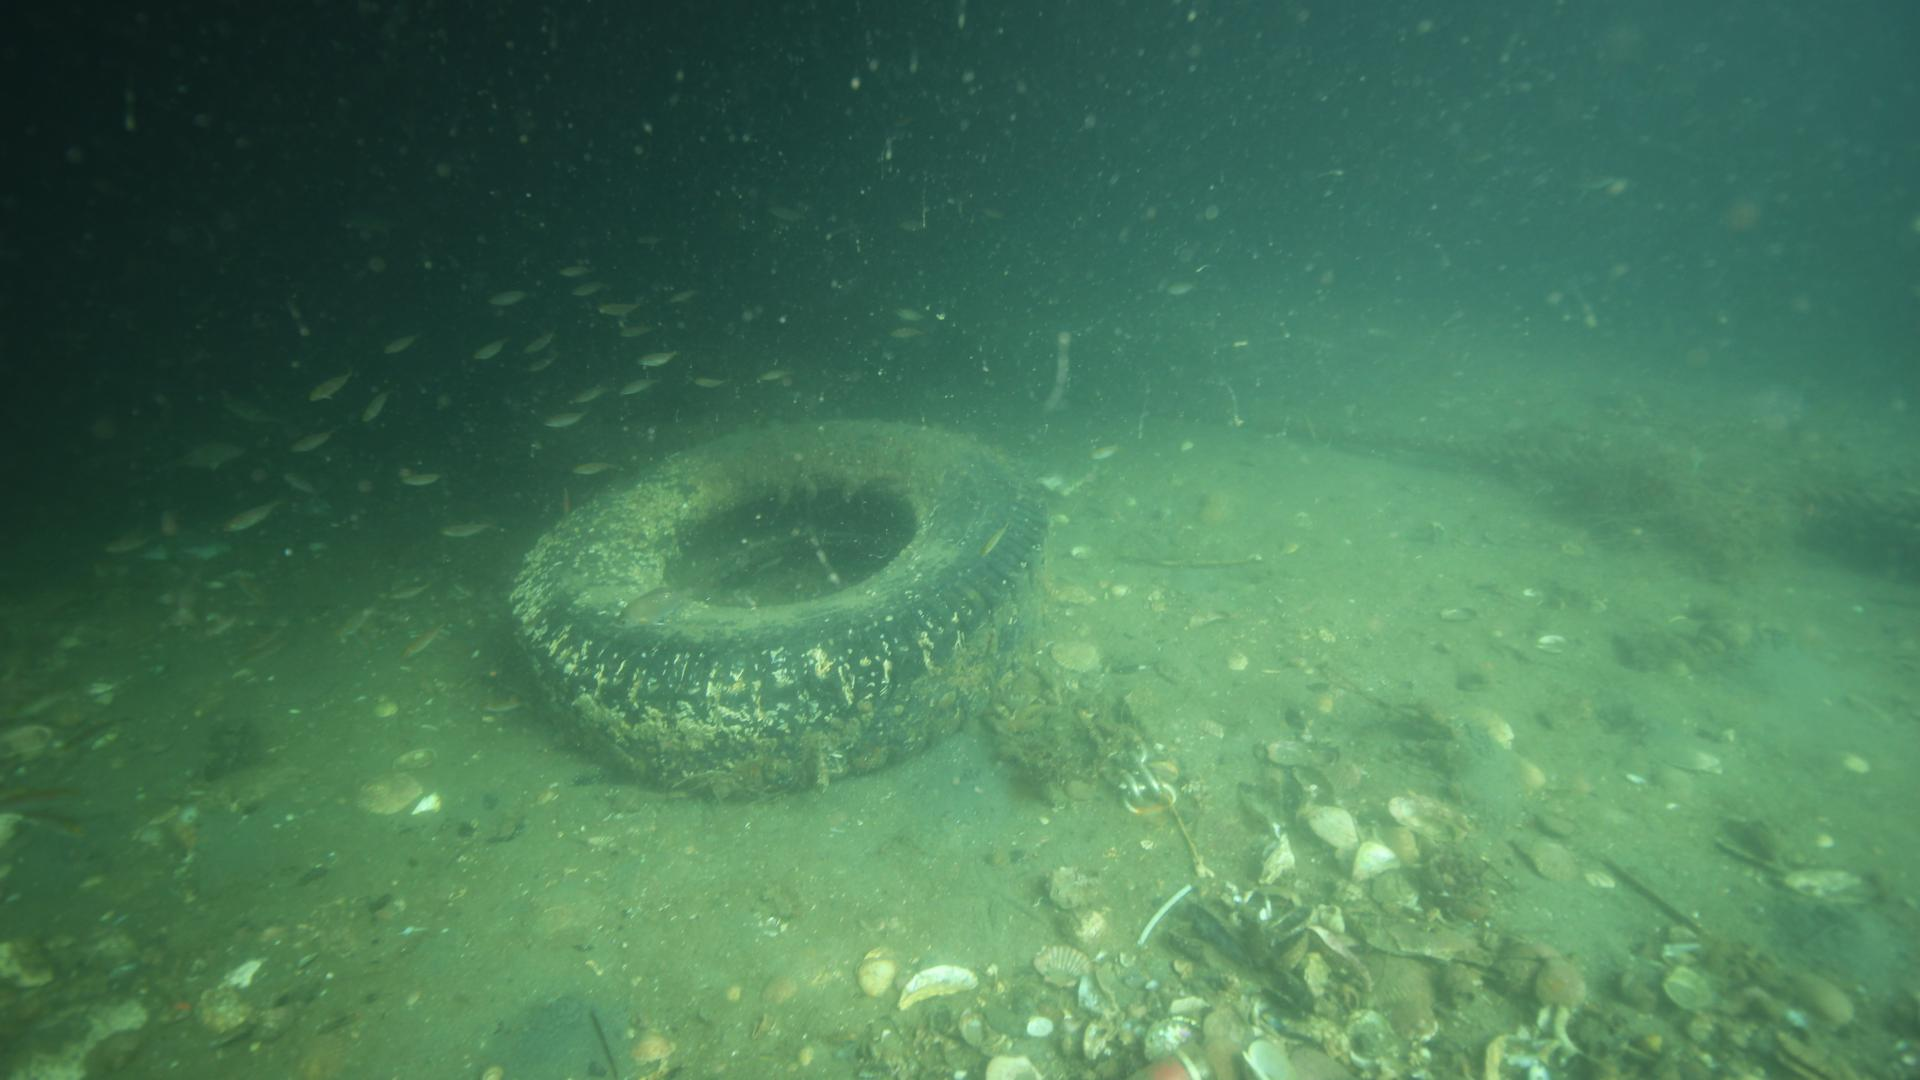tire: (498, 422, 1055, 799)
